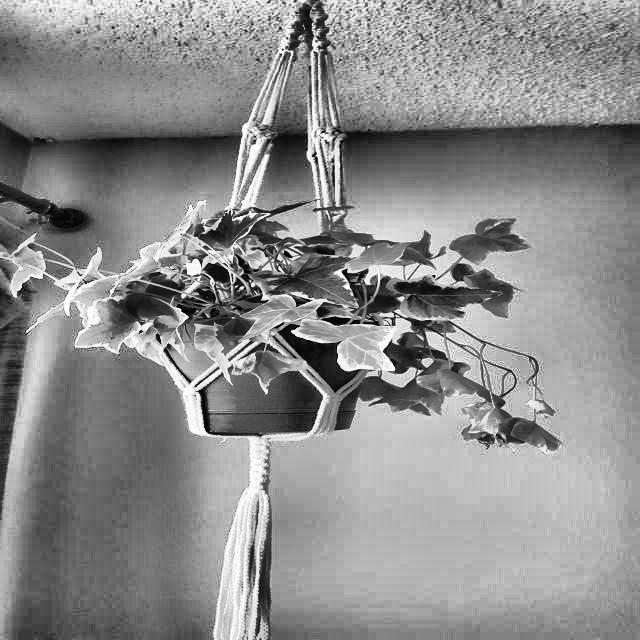plants: (0, 223, 582, 448), (457, 346, 572, 448), (290, 320, 403, 380)
